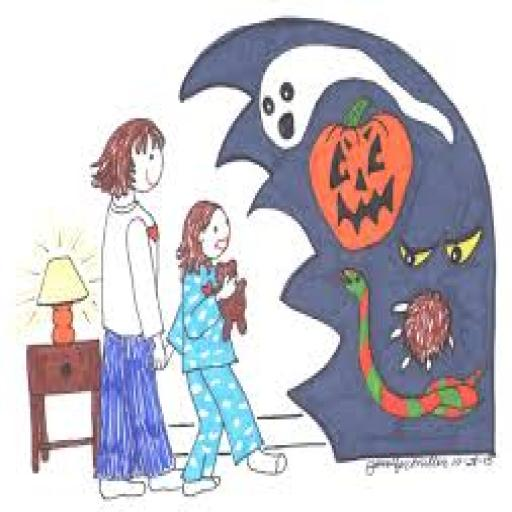person: (88, 116, 196, 504), (165, 196, 292, 500)
